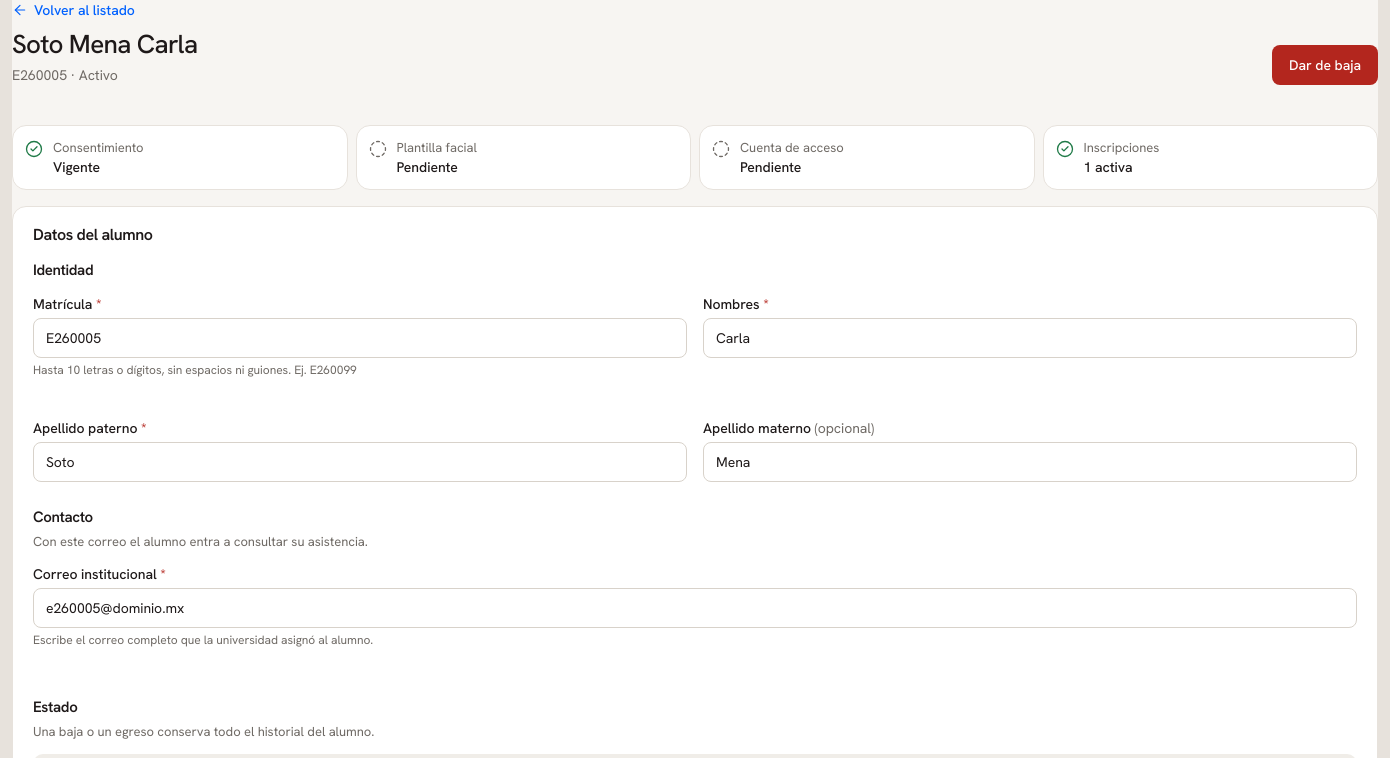
Test: DetalleAlumno: guardar › un DUPLICADO se pega a la matrícula, sin toast de error genérico
The image size is (1390, 758).
Replace the text in the field labelled "Matrícula *" with "E260001" at (360, 338), box [33,318,687,358]
(page scrolled)
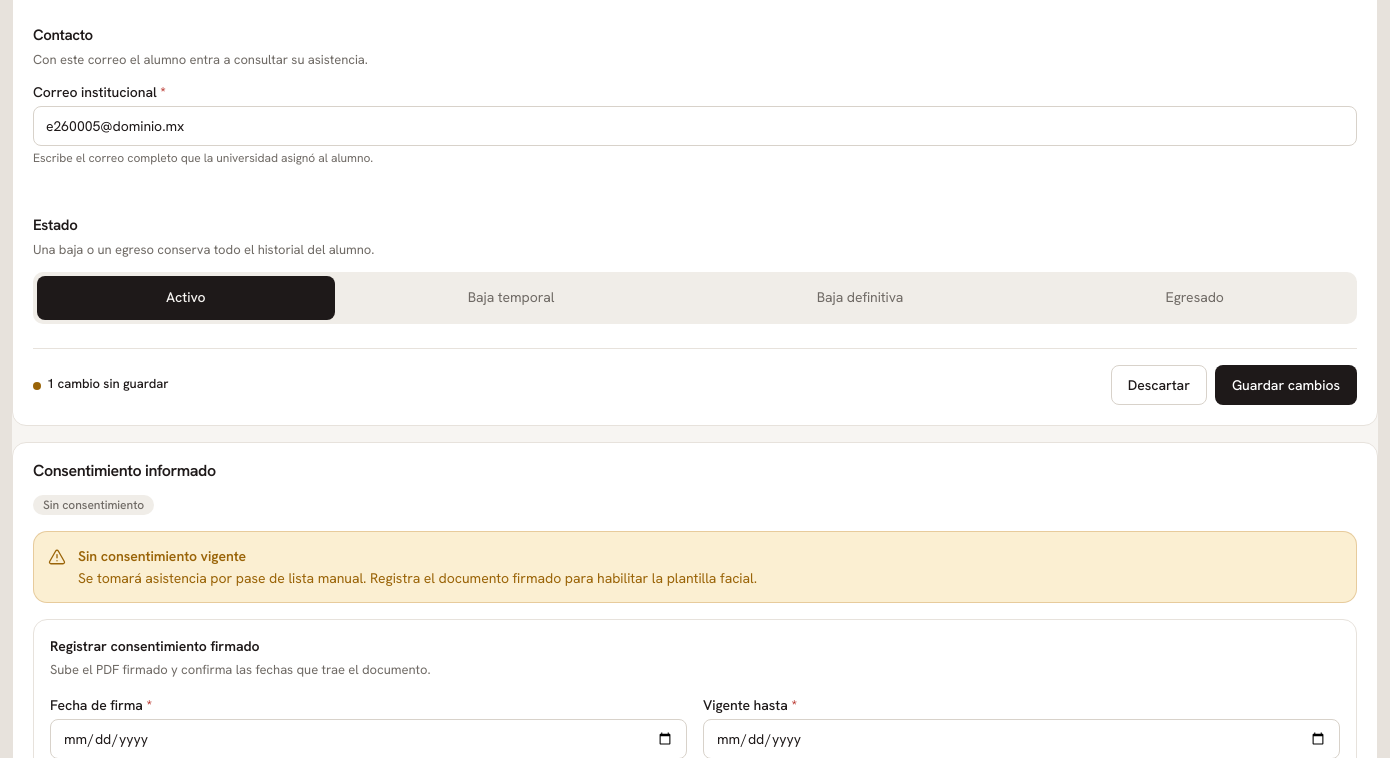
Click the button "Guardar cambios" at (1286, 384), box [1215,364,1357,404]
(page scrolled)
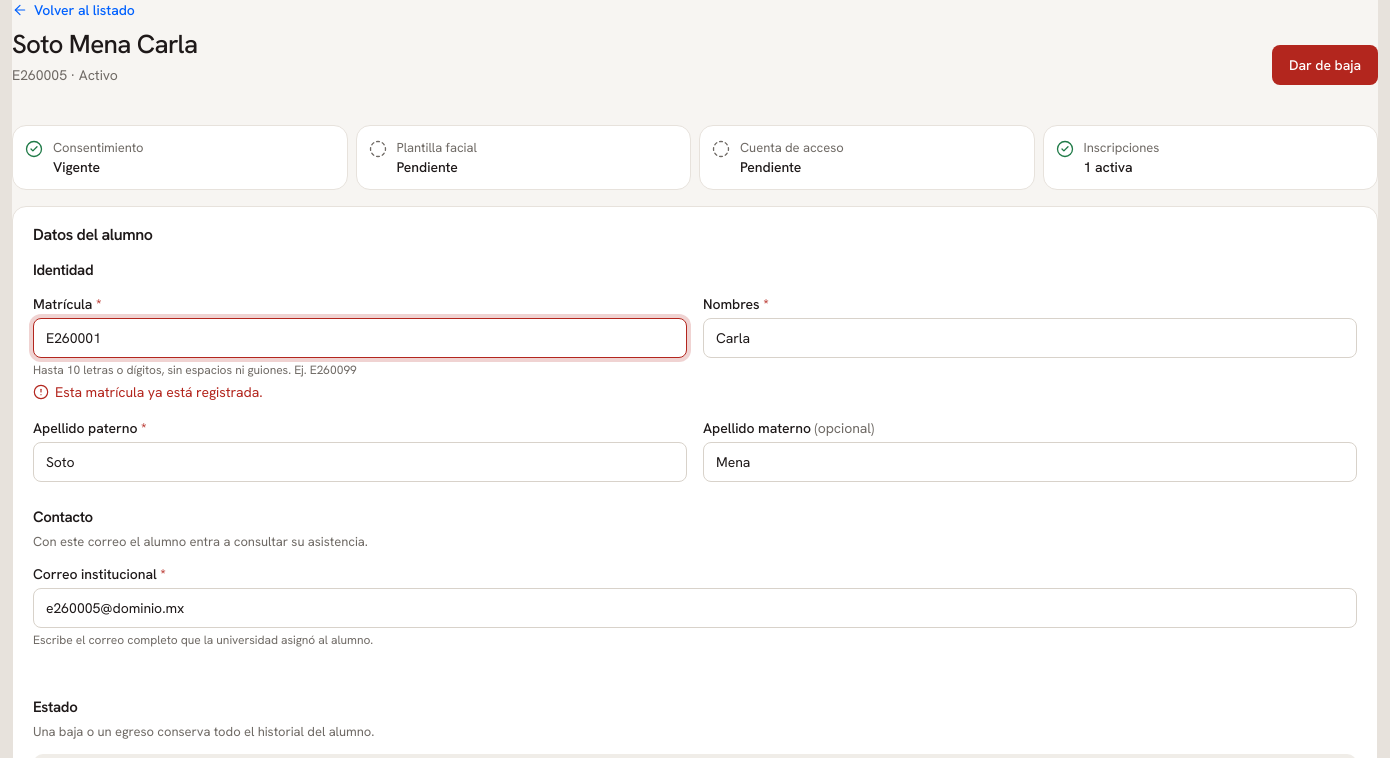
Expected: the text "Esta matrícula ya está registrada." is shown, [33,382,262,400]
